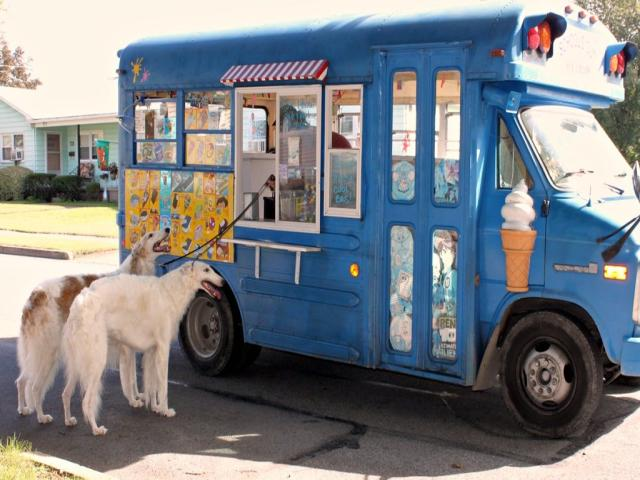Dog: (16, 226, 180, 421), (66, 257, 231, 434)
